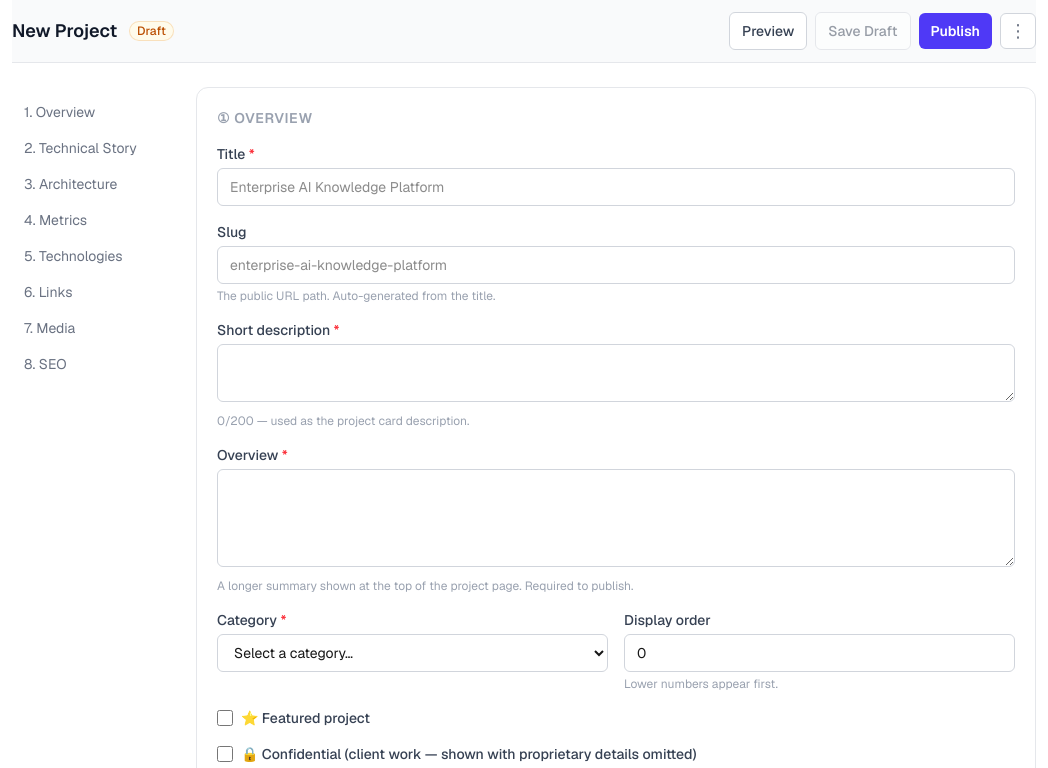
ProjectEditor › creates a project on Save Draft
The width and height of the screenshot is (1048, 768).
Type "Vision Pipeline" into the field labelled "Title *".
click(616, 187); type("Vision Pipeline")  # box [217,168,1015,206]
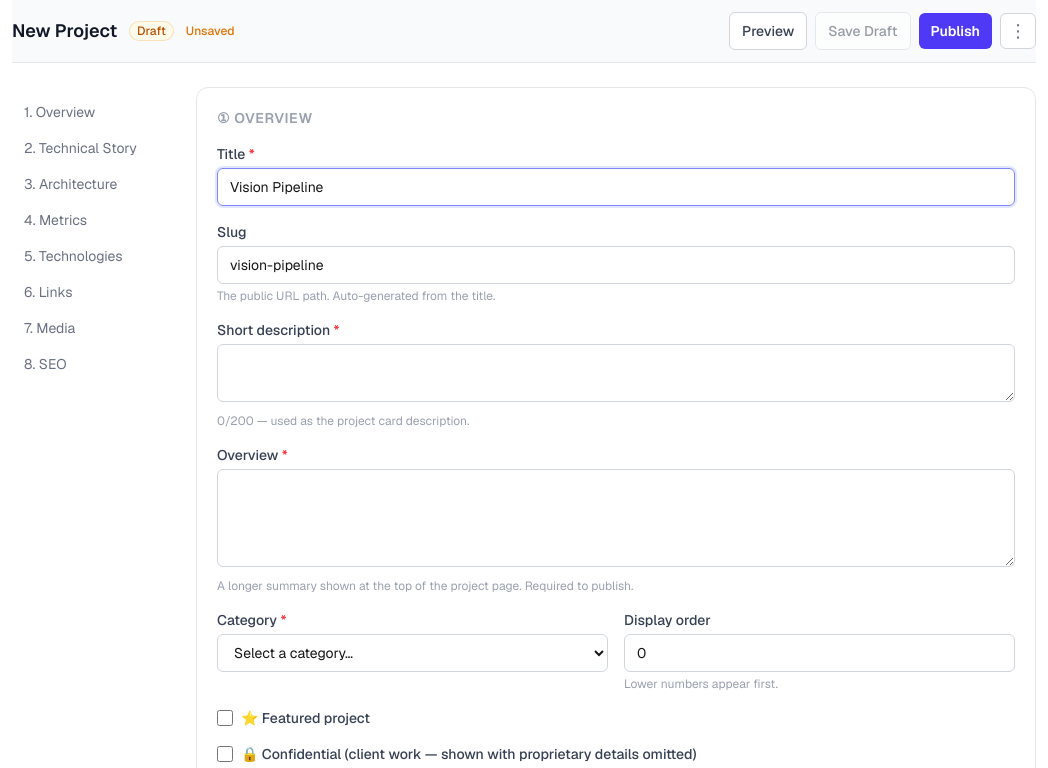
Type "A CV pipeline." into the text box labelled "Short description".
click(616, 373); type("A CV pipeline.")  # box [217,344,1015,402]
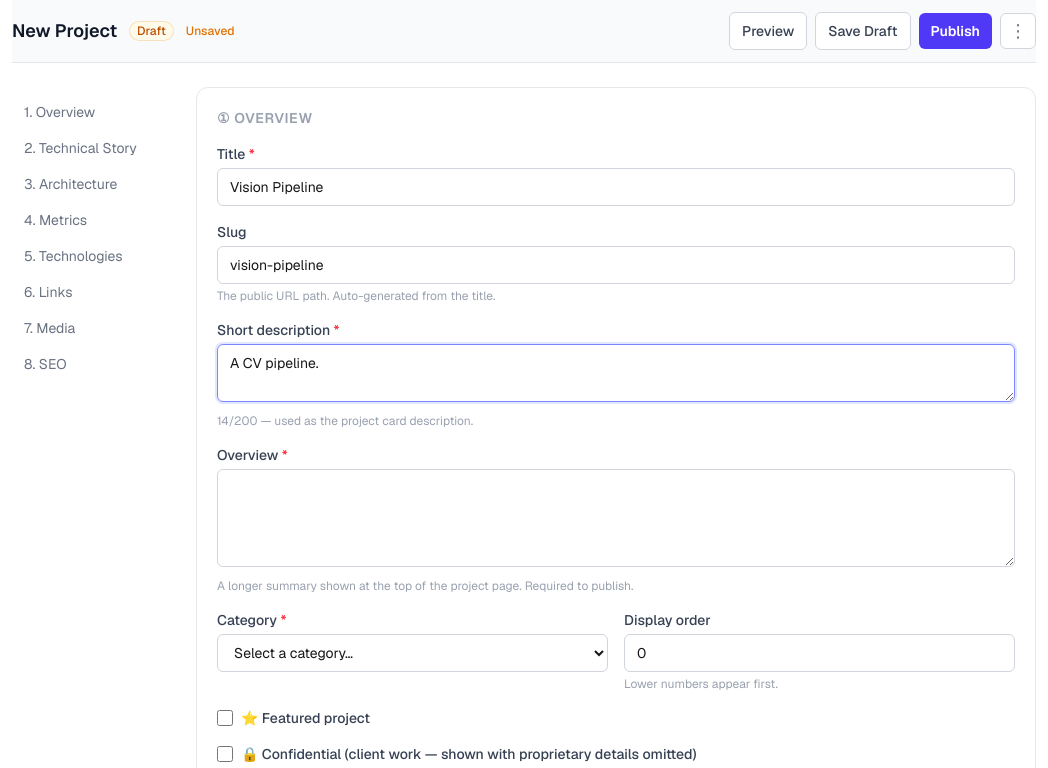
Click the button "Save Draft".
click(863, 31)  # box [815,12,911,50]
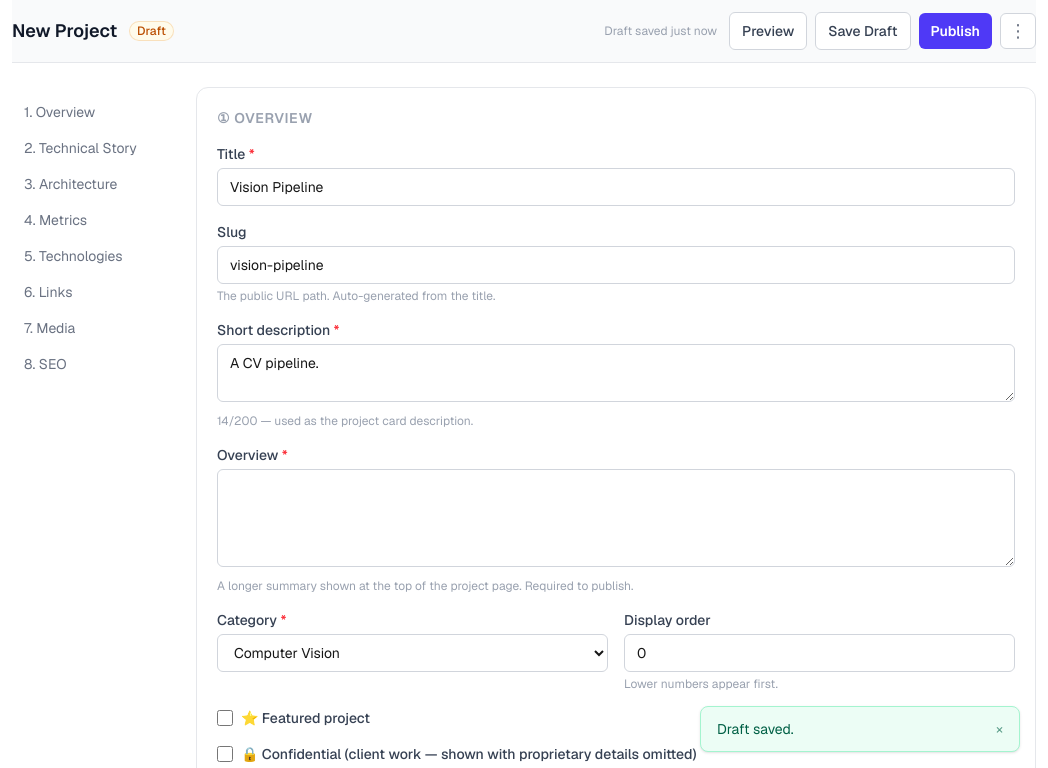
Now the text "Draft saved." is shown, box [717,719,794,739]
